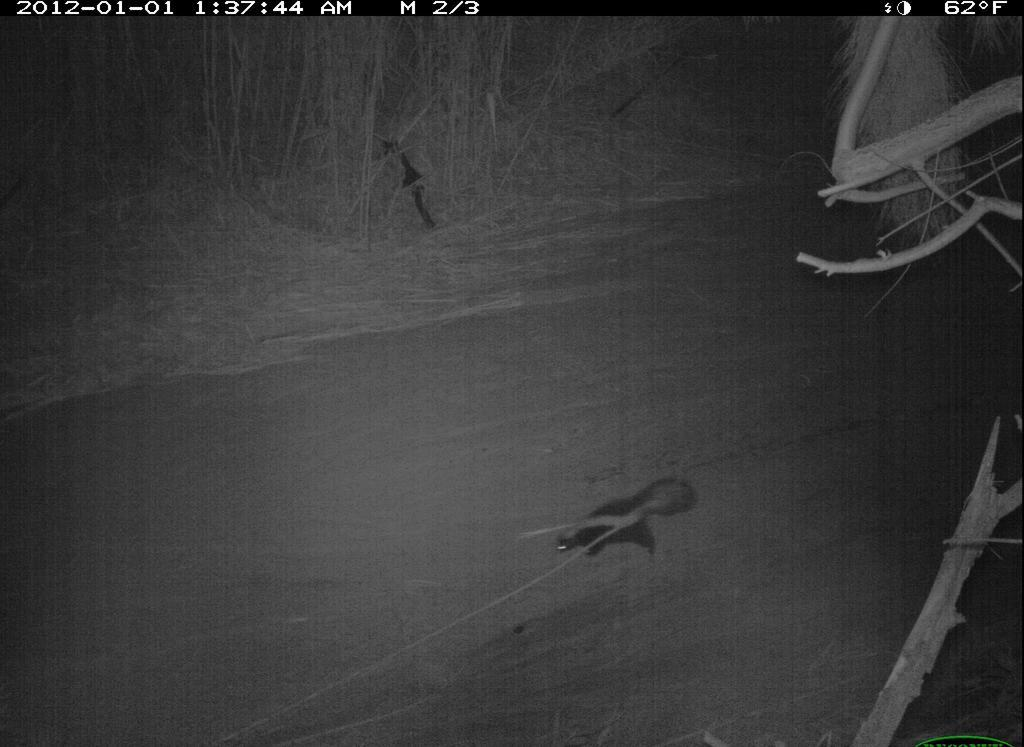skunk: (551, 470, 702, 570)
